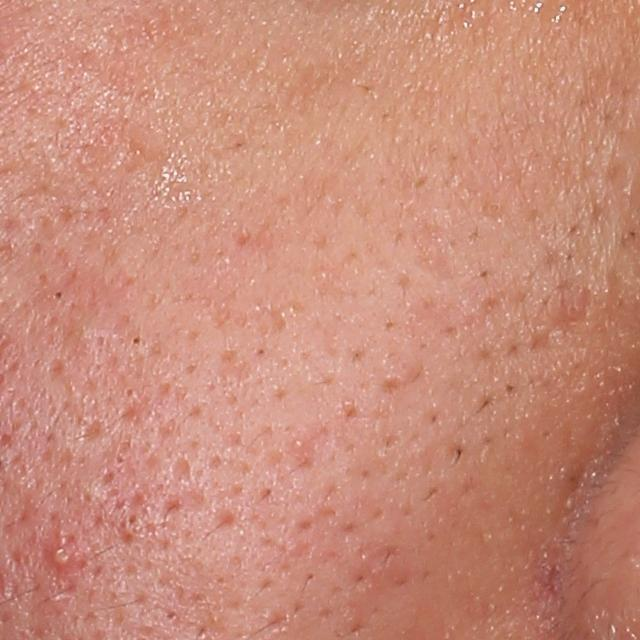atrophic_scar: (409, 213, 464, 288), (75, 413, 112, 448)
comedo: (481, 196, 504, 219), (121, 383, 137, 400), (49, 288, 64, 301), (129, 333, 143, 346)
pustule: (46, 541, 81, 568)
